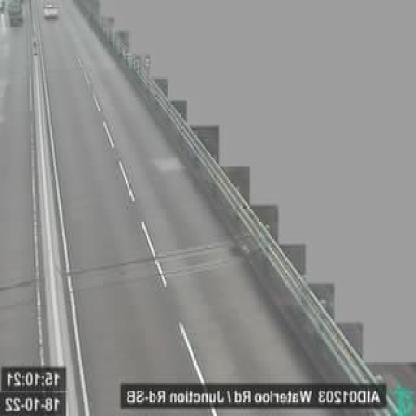Car: (41, 1, 60, 20)
